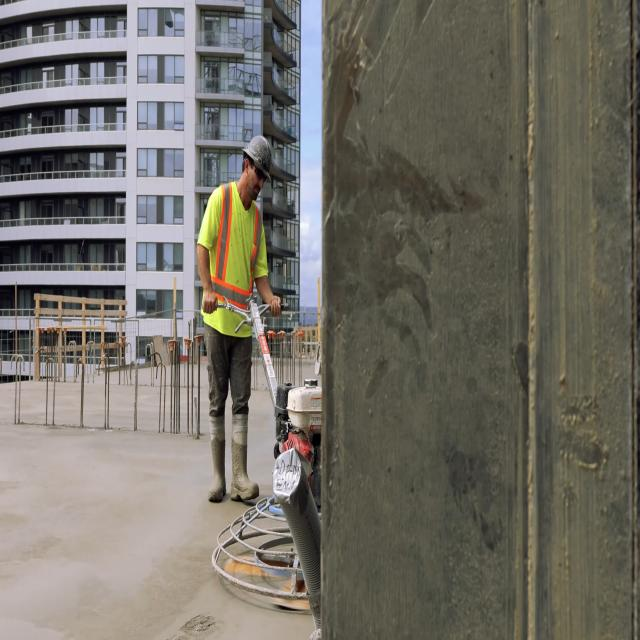Boots: (208, 404, 260, 504)
Helmet: (244, 133, 271, 178)
Vest: (202, 182, 257, 341)
